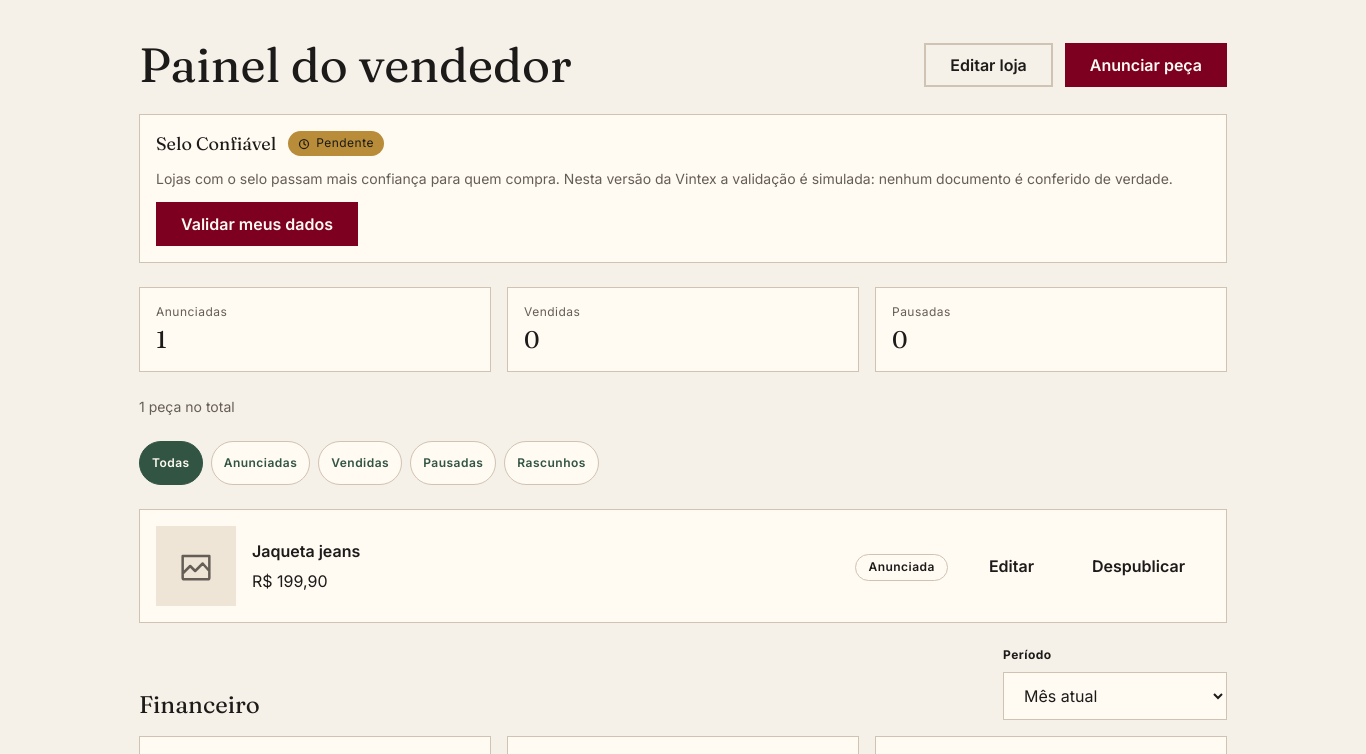
<SellerAdmin /> › filtro sem resultado oferece voltar para todas, sem dizer que não há peças
Expected: the button "Jaqueta jeans" is shown, [252,538,360,564]
Click the button "Vendidas": (360, 463) [318,441,402,485]
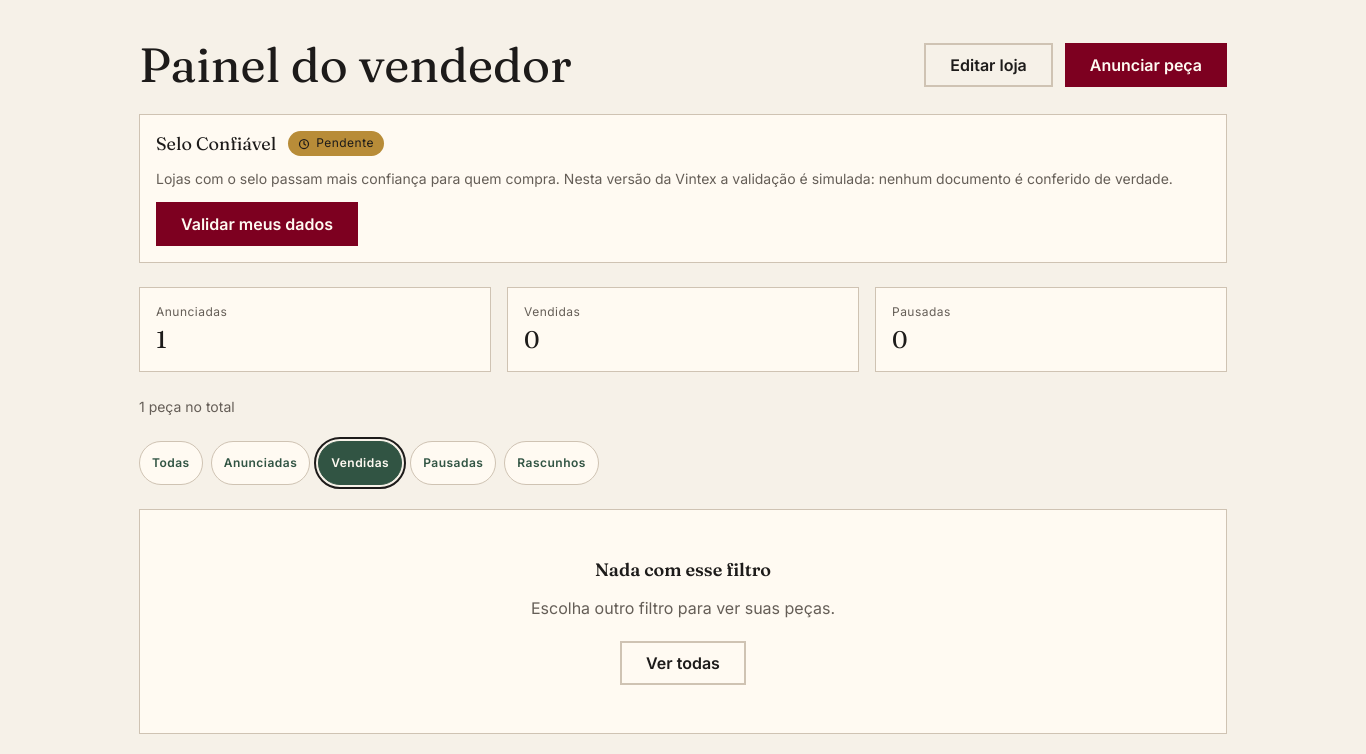
Result: the text "Nada com esse filtro" is shown at [595,558,771,583]
Click the button "Ver todas": (683, 663) [620,641,746,685]
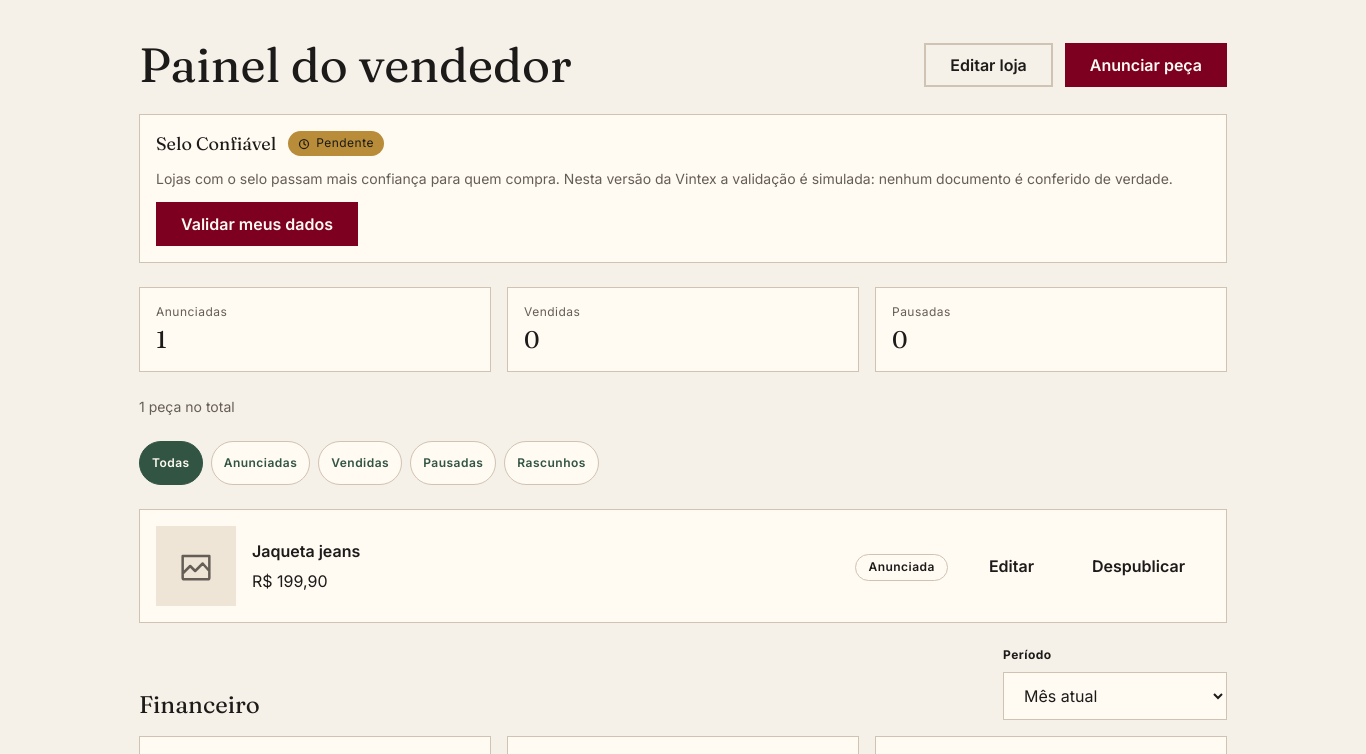
Result: the button "Jaqueta jeans" is shown at [252,538,360,564]
